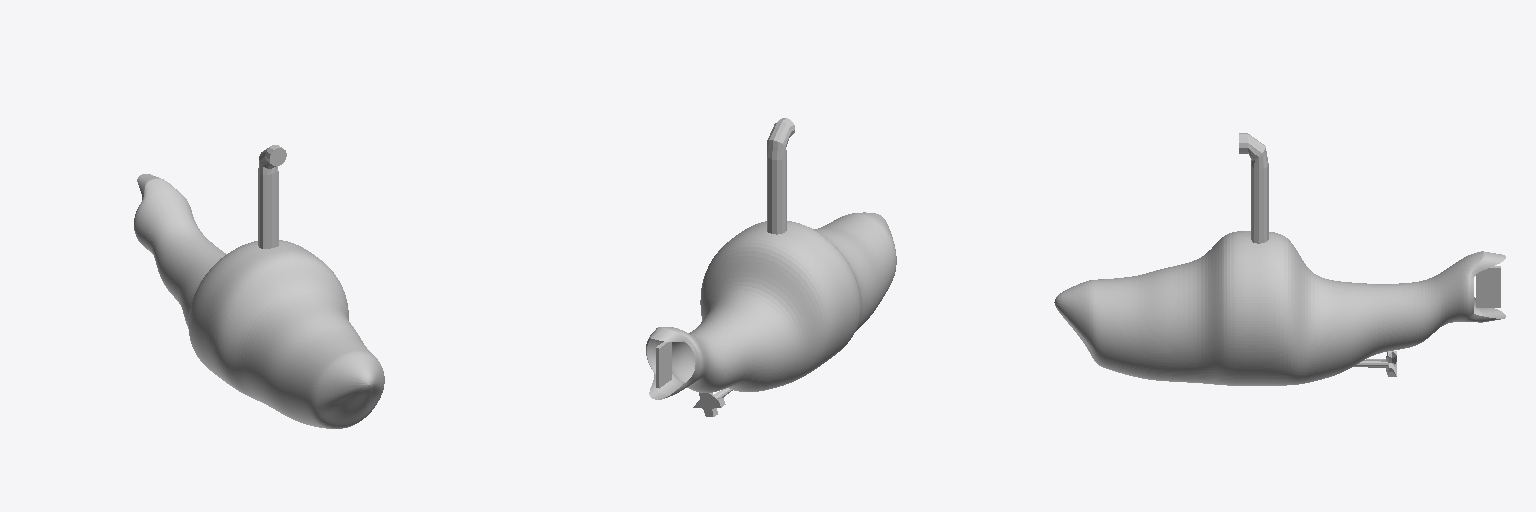
The model's file is submarineship.obj.
The picture shows the model from 3 angles: view 1: azimuth 30°, elevation 25°; view 2: azimuth 150°, elevation 25°; view 3: azimuth 270°, elevation 25°; orthographic projection.
Parts seen in each view (by area): view 1: Submarine_Circle.001, rudder_Cylinder; view 2: Submarine_Circle.001, rudder_Cylinder, Cylinder_Cylinder.001; view 3: Submarine_Circle.001, rudder_Cylinder.
Boxes of the visible parts, x1=… form: Submarine_Circle.001: x1=134, y1=174, x2=384, y2=428; rudder_Cylinder: x1=258, y1=145, x2=286, y2=248; Submarine_Circle.001: x1=646, y1=212, x2=896, y2=399; rudder_Cylinder: x1=656, y1=118, x2=794, y2=388; Cylinder_Cylinder.001: x1=693, y1=388, x2=732, y2=416; Submarine_Circle.001: x1=1054, y1=231, x2=1505, y2=385; rudder_Cylinder: x1=1239, y1=133, x2=1500, y2=307.
Bounding box in the file's own units: 4.28 × 7.47 × 12.46.